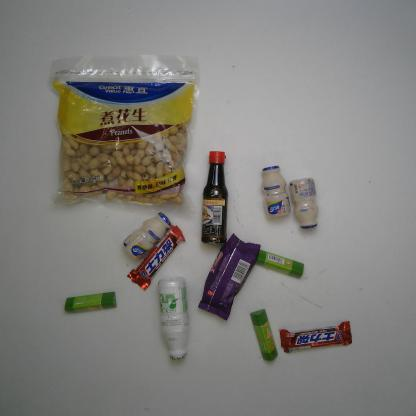Chocolate: (126, 224, 186, 292), (279, 320, 352, 353)
Dessert: (197, 233, 261, 321)
Dried Food: (47, 54, 200, 216)
Milk: (157, 275, 190, 360), (122, 212, 172, 260), (261, 165, 291, 218), (289, 178, 319, 230)
Seasoner: (199, 151, 228, 245)
Stationery: (255, 249, 304, 279), (250, 309, 278, 361), (64, 292, 117, 314)
